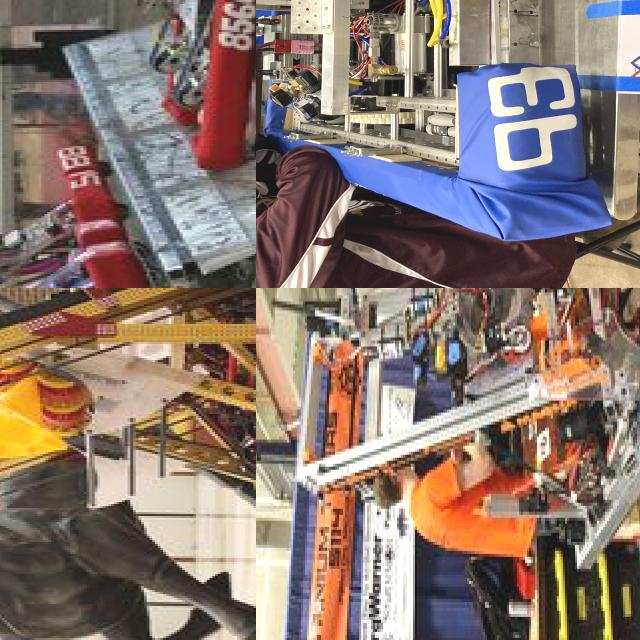FRC-Robots: (256, 0, 633, 252), (276, 288, 640, 534), (0, 288, 256, 560), (116, 0, 256, 159), (0, 124, 122, 288), (0, 224, 175, 288)
